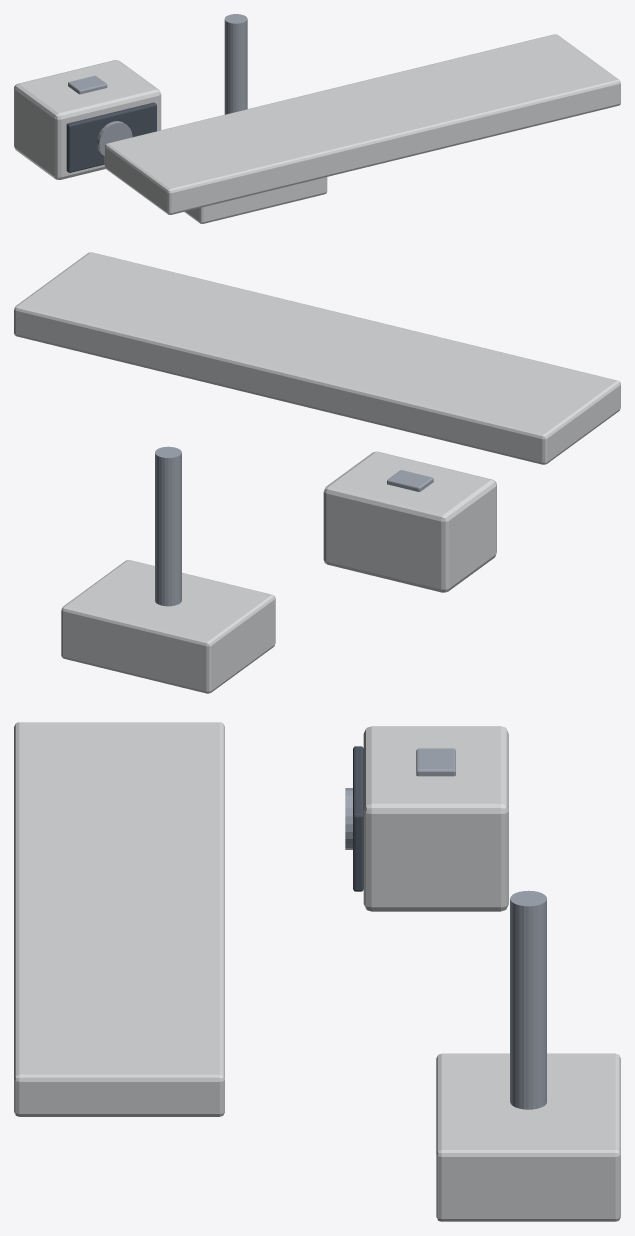
Rendered from classroom-ceiling-speaker-projector.glb.
3 views of the same model, one above another, from view 1: azimuth 30°, elevation 25°; view 2: azimuth 150°, elevation 25°; view 3: azimuth 270°, elevation 25° (orthographic). The views are drawn at different scales.
Visible parts, largest first — view 1: LouverLamp, BroadcastSpeakerCabinet, BroadcastSpeakerGrille, ProjectorBody, ProjectorMast, BroadcastSpeakerDriver, BroadcastSpeakerMount; view 2: LouverLamp, ProjectorBody, BroadcastSpeakerCabinet, ProjectorMast, BroadcastSpeakerMount; view 3: LouverLamp, ProjectorBody, BroadcastSpeakerCabinet, ProjectorMast, BroadcastSpeakerGrille, BroadcastSpeakerMount.
Part boxes in pixels (x1,y1,x2,y2): LouverLamp: [104, 34, 620, 214]; BroadcastSpeakerCabinet: [14, 60, 161, 179]; BroadcastSpeakerGrille: [66, 102, 156, 172]; ProjectorBody: [184, 177, 327, 223]; ProjectorMast: [224, 14, 247, 114]; BroadcastSpeakerDriver: [97, 121, 132, 155]; BroadcastSpeakerMount: [68, 75, 107, 94]; LouverLamp: [14, 252, 620, 464]; ProjectorBody: [61, 560, 275, 693]; BroadcastSpeakerCabinet: [323, 451, 496, 592]; ProjectorMast: [155, 446, 181, 606]; BroadcastSpeakerMount: [387, 470, 433, 491]; LouverLamp: [14, 722, 224, 1116]; ProjectorBody: [436, 1053, 620, 1221]; BroadcastSpeakerCabinet: [363, 726, 508, 911]; ProjectorMast: [510, 890, 546, 1109]; BroadcastSpeakerGrille: [353, 746, 363, 891]; BroadcastSpeakerMount: [416, 748, 455, 776].
Bounding box in the file's own units: 1.29 × 0.46 × 0.92.
